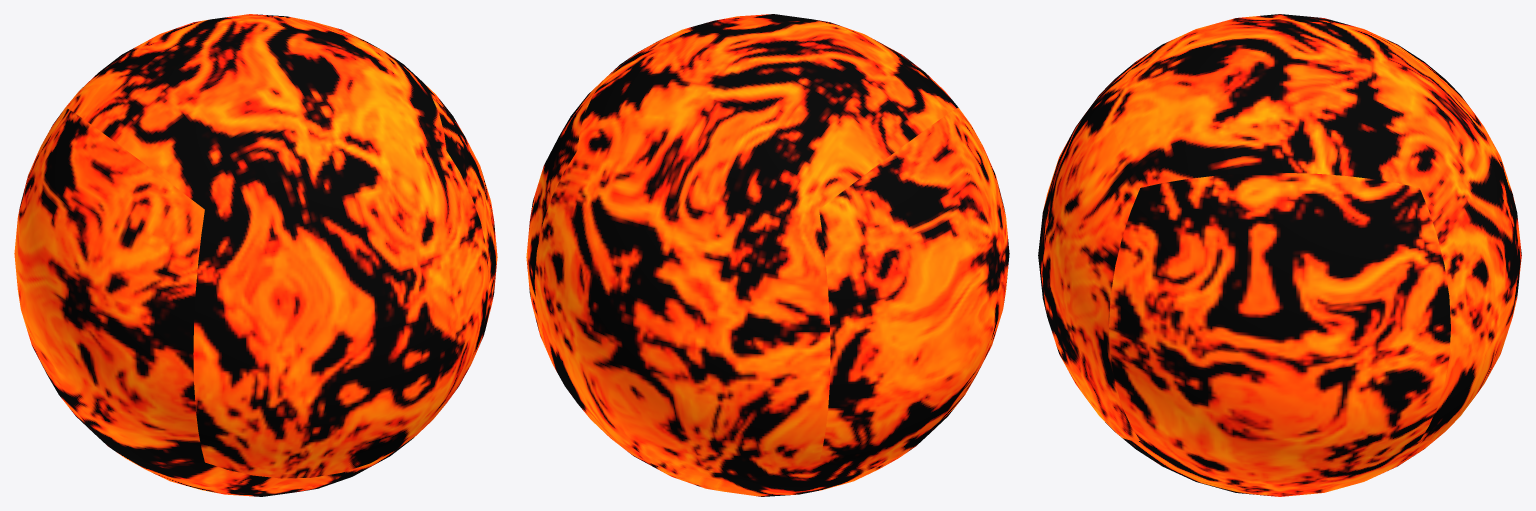
File: fireball.glb
3 views of the same model, side by side, from view 1: azimuth 30°, elevation 25°; view 2: azimuth 150°, elevation 25°; view 3: azimuth 270°, elevation 25° (orthographic).
Visible parts, largest first — view 1: 0_fireball; view 2: 0_fireball; view 3: 0_fireball.
Boxes of the visible parts, x1,y1,x2,y2 form: 0_fireball: [14, 14, 497, 496]; 0_fireball: [526, 14, 1009, 496]; 0_fireball: [1038, 14, 1521, 496].
Bounding box in the file's own units: 0.127 × 0.127 × 0.127.
Materials: 1 (1 with a texture image).
